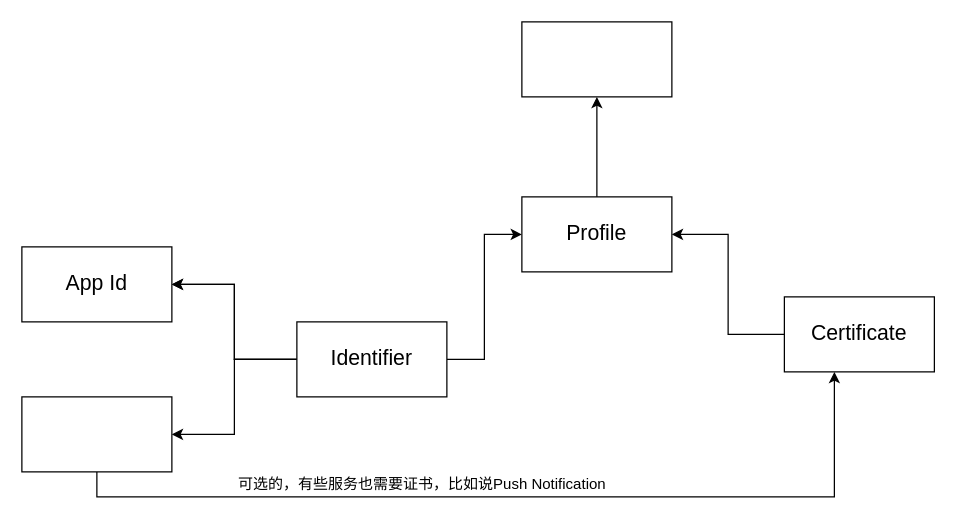
Image size: 956x529. Some labels were removed from this diagram. The shapes that lost their labels are listed below. From the top down, each one's centre as x and y in pixels, then its label:
point (596, 59): 应用
point (96, 434): App Services
